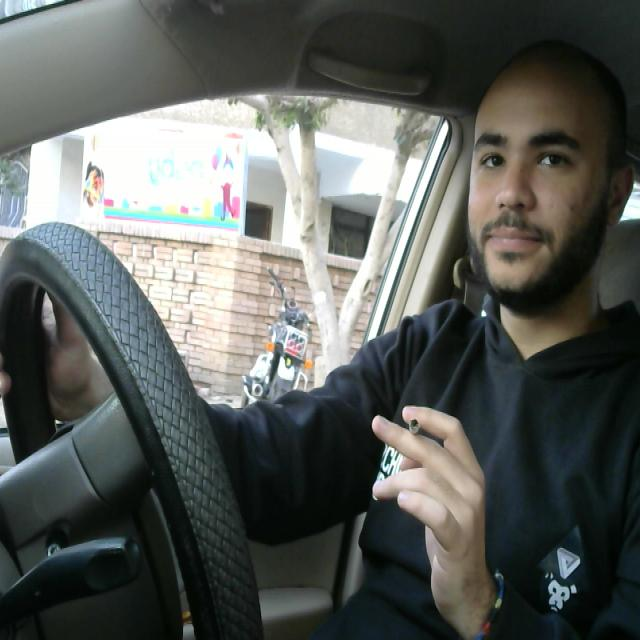smoking: (400, 415, 425, 448)
